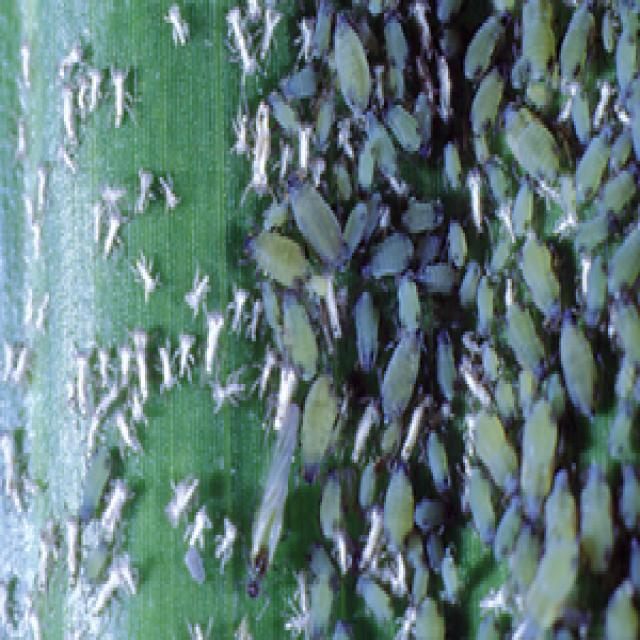Aphid-Grouped-: (238, 6, 631, 633)
